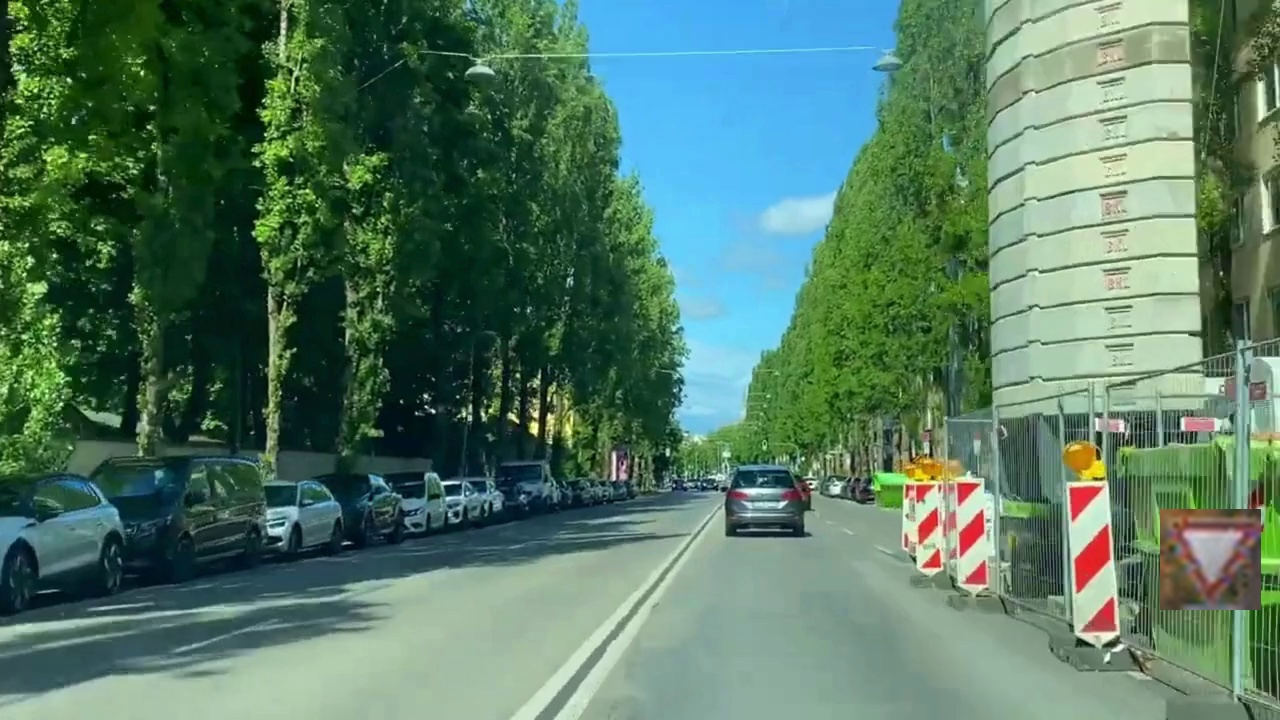Yield: (1160, 509, 1261, 610)
